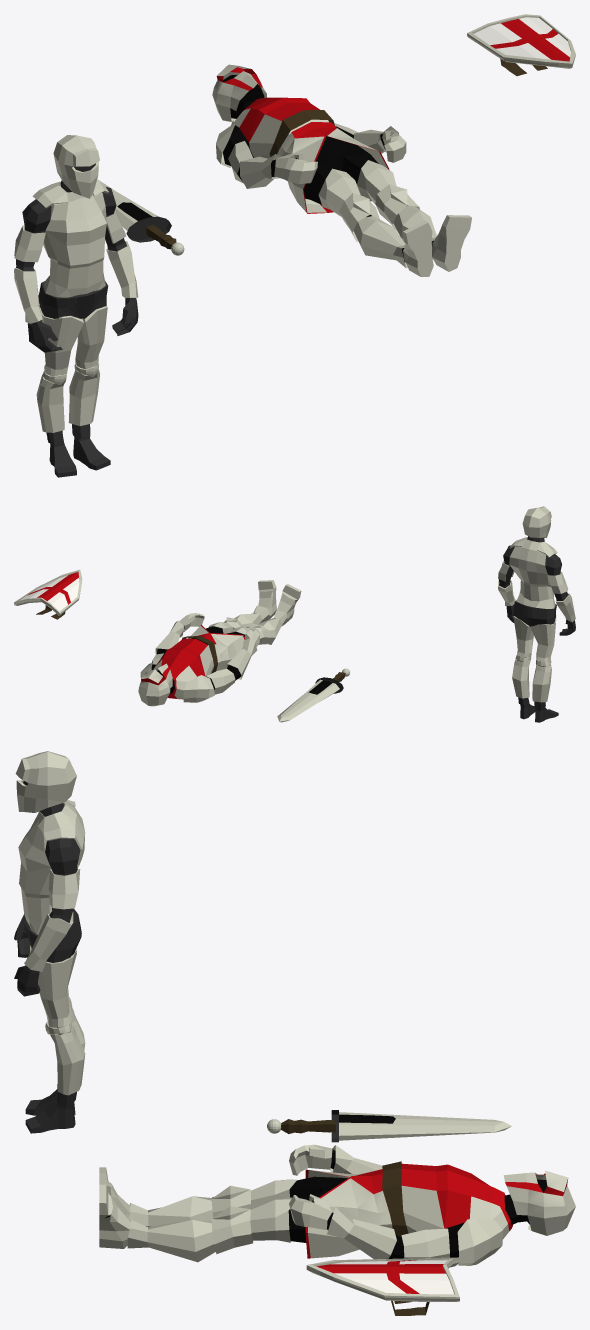
The model's file is soldado.fbx.
The picture shows the model from 3 angles, top to bottom: view 1: azimuth 30°, elevation 25°; view 2: azimuth 150°, elevation 25°; view 3: azimuth 270°, elevation 25°; orthographic projection. The views are drawn at different scales.
Visible parts, largest first — view 1: boneco 2, thoraz, leg, shield, main, braça, capa, Sword, tecido, mão, ombreiras; view 2: boneco 2, leg, thoraz, shield, main, Sword, braça, tecido, capa; view 3: boneco 2, shield, Sword, leg, main, thoraz, capa, braça, mão, tecido, ombreiras.
Part boxes in pixels (<box>): boneco 2: <box>212,64,471,276</box>; thoraz: <box>43,180,106,297</box>; leg: <box>36,305,107,432</box>; shield: <box>467,14,575,76</box>; main: <box>16,163,136,477</box>; braça: <box>14,209,138,323</box>; capa: <box>53,135,99,198</box>; Sword: <box>102,182,184,255</box>; tecido: <box>38,281,108,444</box>; mão: <box>27,298,138,352</box>; ombreiras: <box>32,179,108,208</box>; boneco 2: <box>138,580,301,706</box>; leg: <box>512,614,556,702</box>; thoraz: <box>509,538,555,608</box>; shield: <box>14,569,82,619</box>; main: <box>499,536,568,722</box>; Sword: <box>277,668,349,722</box>; braça: <box>498,560,575,622</box>; tecido: <box>513,600,556,708</box>; capa: <box>522,506,551,537</box>; boneco 2: <box>99,1144,575,1265</box>; shield: <box>306,1257,459,1315</box>; Sword: <box>267,1110,511,1142</box>; leg: <box>30,945,85,1095</box>; main: <box>23,781,80,1133</box>; thoraz: <box>18,802,85,934</box>; capa: <box>15,751,76,812</box>; braça: <box>24,869,80,971</box>; mão: <box>14,914,40,996</box>; tecido: <box>23,909,81,1105</box>; ombreiras: <box>38,800,75,841</box>.
Bounding box in the file's own units: 1223 × 547 × 759.
